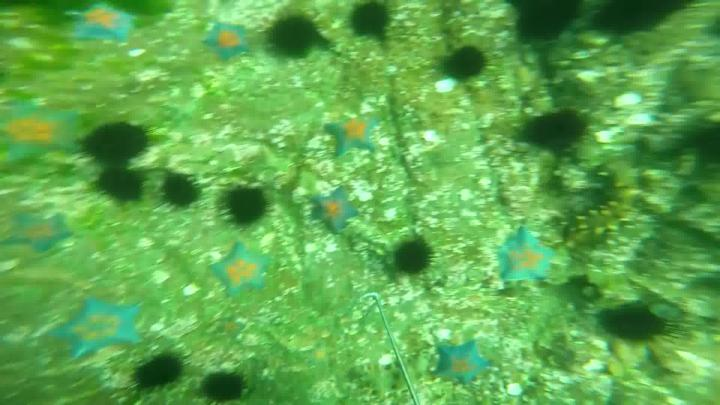echinus: (508, 1, 585, 48), (600, 304, 680, 346), (526, 107, 593, 153), (594, 3, 688, 34), (82, 120, 149, 161), (268, 13, 319, 58), (133, 352, 184, 389), (96, 168, 144, 204), (349, 1, 393, 40), (222, 189, 269, 223), (392, 239, 437, 274), (684, 123, 720, 166), (202, 371, 247, 402), (166, 171, 199, 207), (450, 48, 487, 80)
holothurian: (565, 165, 643, 248)
scallop: (611, 92, 642, 110), (626, 115, 652, 127), (505, 382, 524, 398), (182, 284, 201, 298), (435, 79, 454, 93), (154, 272, 171, 286), (138, 239, 157, 247)
starfish: (49, 297, 147, 366), (1, 102, 78, 168), (493, 228, 555, 291), (209, 243, 271, 300), (3, 212, 74, 253), (438, 342, 490, 388), (70, 5, 136, 40), (313, 190, 360, 237), (324, 119, 378, 156), (200, 22, 248, 62)
